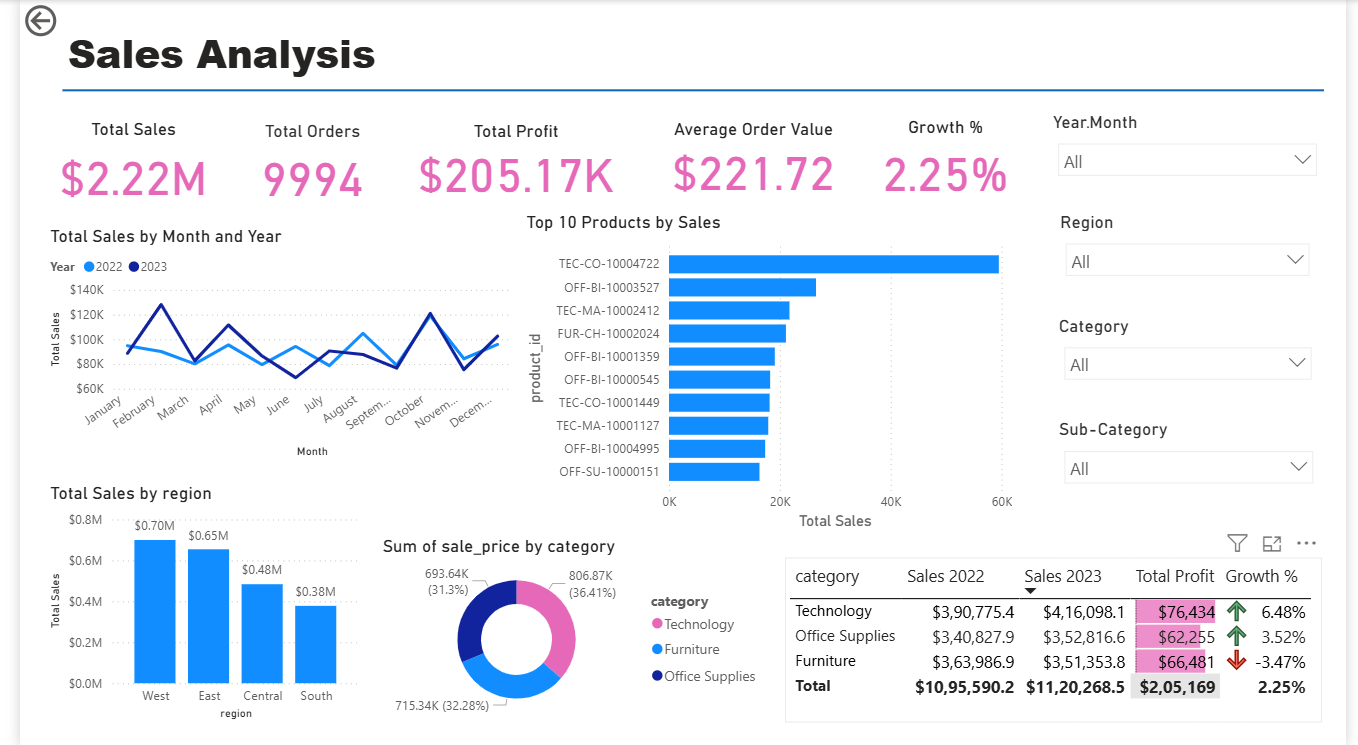

What the dashboard file says about the page in this screenshot:
{"tool":"powerbi","page":{"name":"Page 1","canvas":[1280,720],"ordinal":0},"visuals":[{"type":"card","title":"Total Sales","fields":{"Values":["retail df_orders.Total Sales"]},"box":[23.8,115,171.2,85],"z":1000},{"type":"donutChart","fields":{"Category":["retail df_orders.category"],"Y":["Sum(retail df_orders.sale_price)"]},"box":[345,516.2,378.8,181.2],"z":2000},{"type":"barChart","title":"Top 10 Products by Sales","fields":{"Category":["retail df_orders.product_id"],"Y":["Sum(retail df_orders.sale_price)"]},"box":[483.8,203.8,478.8,312.5],"z":3000},{"type":"card","title":"Total Orders","fields":{"Values":["retail df_orders.Total Orders"]},"box":[210,116.2,145,83.8],"z":4000},{"type":"card","title":"Total Profit","fields":{"Values":["retail df_orders.Total Profit"]},"box":[375,116.2,207.5,75],"z":5000},{"type":"card","title":"Average Order Value","fields":{"Values":["retail df_orders.Average Order Value"]},"box":[606.2,115,202.5,75],"z":6000},{"type":"actionButton","box":[0,0,100,40],"z":7000},{"type":"lineChart","fields":{"Y":["retail df_orders.Total Sales"],"Category":["retail df_orders.order_date.Variation.Date Hierarchy.Month"],"Series":["retail df_orders.order_date.Variation.Date Hierarchy.Year"]},"box":[23.8,217.5,455,230],"z":8000},{"type":"slicer","title":"Category","fields":{"Values":["retail df_orders.category"]},"box":[997.9,304.3,258.6,81.4],"z":9000},{"type":"slicer","title":"Sub-Category","fields":{"Values":["retail df_orders.sub_category"]},"box":[997.2,404.3,260,84.3],"z":10000},{"type":"slicer","title":"Region","fields":{"Values":["retail df_orders.region"]},"box":[999.3,204.3,255.7,77.1],"z":11000},{"type":"slicer","title":"Year.Month","fields":{"Values":["retail df_orders.order_date.Variation.Date Hierarchy.Year","retail df_orders.order_date.Variation.Date Hierarchy.Month"]},"box":[992.2,107.5,270,98.8],"z":12000},{"type":"columnChart","fields":{"Category":["retail df_orders.region"],"Y":["retail df_orders.Total Sales"]},"box":[23.8,466.2,308.8,233.8],"z":13000},{"type":"card","title":"Growth %","fields":{"Values":["retail df_orders.Growth %"]},"box":[823.8,112.5,138.8,81.2],"z":14000},{"type":"pivotTable","fields":{"Rows":["retail df_orders.category"],"Values":["retail df_orders.Sales 2022","retail df_orders.Sales 2023","retail df_orders.Total Profit","retail df_orders.Growth %"]},"box":[738.8,537.5,518.8,160],"z":15000},{"type":"textbox","box":[41.2,20,581.2,67.5],"z":15001},{"type":"shape","box":[41.2,61.2,1217.5,51.2],"z":15002}]}

Visuals, with their boxes in screenshot pixels (x1, y1, x2, y2), scaled from the page's 1280x720 canvas onto the 1358x745 screenshot:
"Total Sales" card: (x1=25, y1=119, x2=207, y2=207)
donutChart - retail df_orders.category x Sum(retail df_orders.sale_price): (x1=366, y1=534, x2=768, y2=722)
"Top 10 Products by Sales" barChart: (x1=513, y1=211, x2=1021, y2=534)
"Total Orders" card: (x1=223, y1=120, x2=377, y2=207)
"Total Profit" card: (x1=398, y1=120, x2=618, y2=198)
"Average Order Value" card: (x1=643, y1=119, x2=858, y2=197)
actionButton: (x1=0, y1=0, x2=106, y2=41)
lineChart - retail df_orders.Total Sales x retail df_orders.order_date.Variation.Date Hierarchy.Month: (x1=25, y1=225, x2=508, y2=463)
"Category" slicer: (x1=1059, y1=315, x2=1333, y2=399)
"Sub-Category" slicer: (x1=1058, y1=418, x2=1334, y2=506)
"Region" slicer: (x1=1060, y1=211, x2=1331, y2=291)
"Year.Month" slicer: (x1=1053, y1=111, x2=1339, y2=213)
columnChart - retail df_orders.region x retail df_orders.Total Sales: (x1=25, y1=482, x2=353, y2=724)
"Growth %" card: (x1=874, y1=116, x2=1021, y2=200)
pivotTable - retail df_orders.category x retail df_orders.Sales 2022: (x1=784, y1=556, x2=1334, y2=722)
textbox: (x1=44, y1=21, x2=660, y2=91)
shape: (x1=44, y1=63, x2=1335, y2=116)
